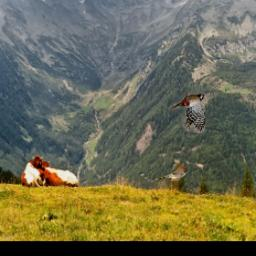Cuckoo: (154, 163, 188, 182)
Woodpecker: (172, 90, 206, 133)
